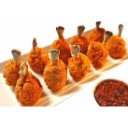chicken_lollipop: (16, 63, 42, 106), (26, 36, 51, 74), (47, 49, 67, 92), (51, 23, 72, 62), (3, 46, 23, 86), (69, 46, 91, 82), (88, 35, 109, 68), (110, 21, 128, 59), (70, 23, 90, 52), (89, 18, 109, 46)
